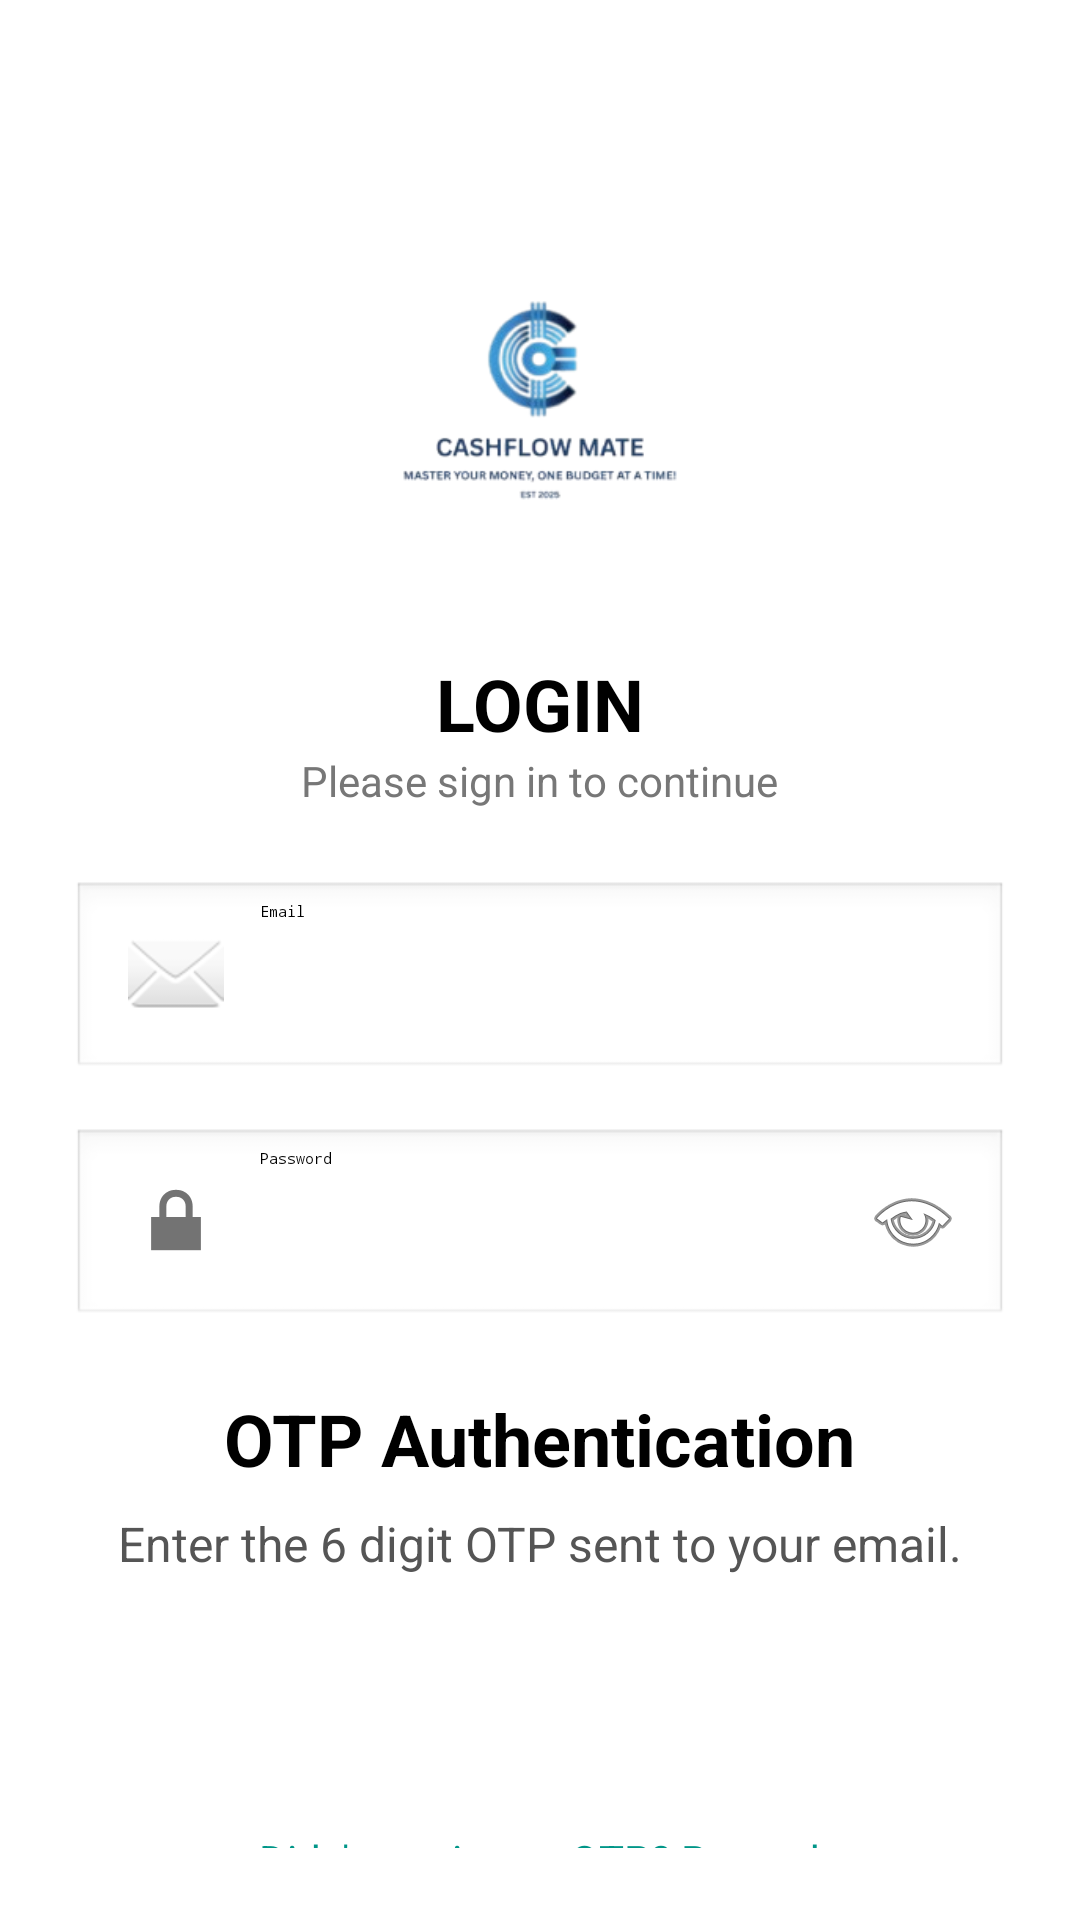

Locate icon controls on the screen. Image size 1080 x 1920, boxes as (x1,y1,x2,y2).
lock: (151,1189,201,1251)
